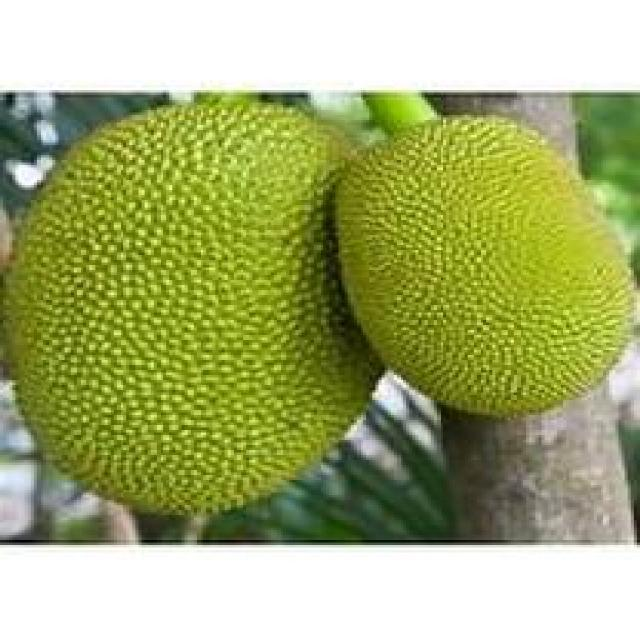Fruit: (0, 95, 400, 533), (317, 95, 640, 443)
